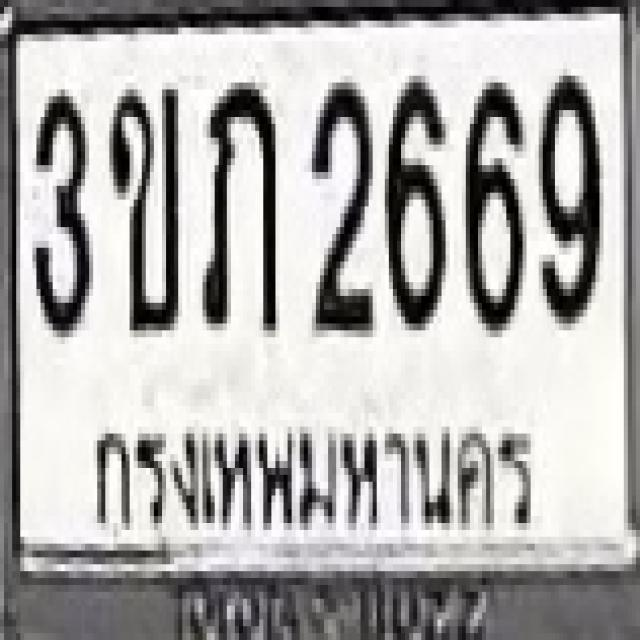-: (196, 72, 278, 327), (105, 79, 178, 327)
2: (307, 72, 368, 327)
3: (28, 83, 89, 330)
6: (381, 69, 442, 323), (462, 76, 522, 323)
9: (534, 69, 596, 316)
BKK: (80, 404, 552, 578)
